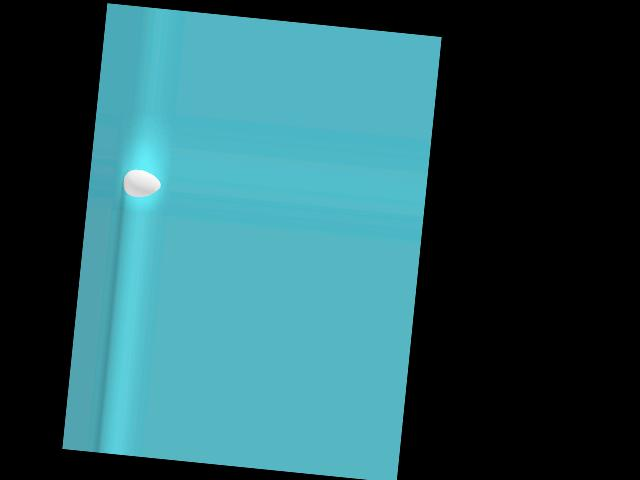egg: (121, 168, 161, 199)
